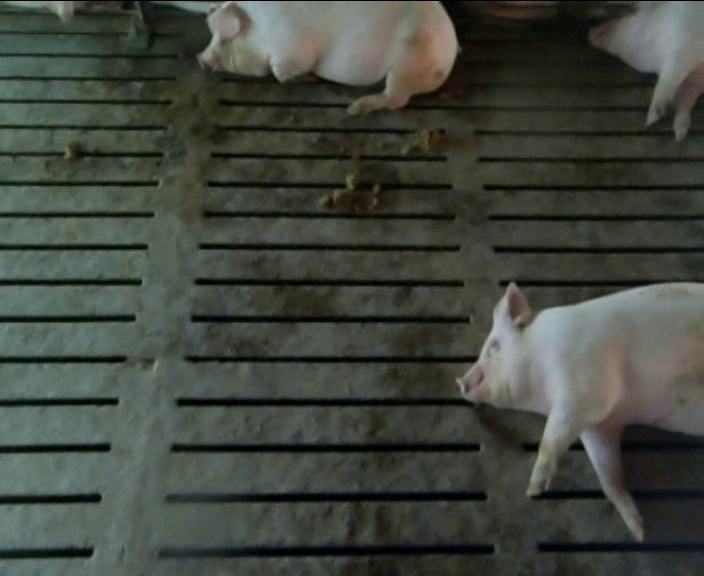pig: (457, 283, 703, 540), (198, 2, 458, 114), (590, 2, 703, 140)
